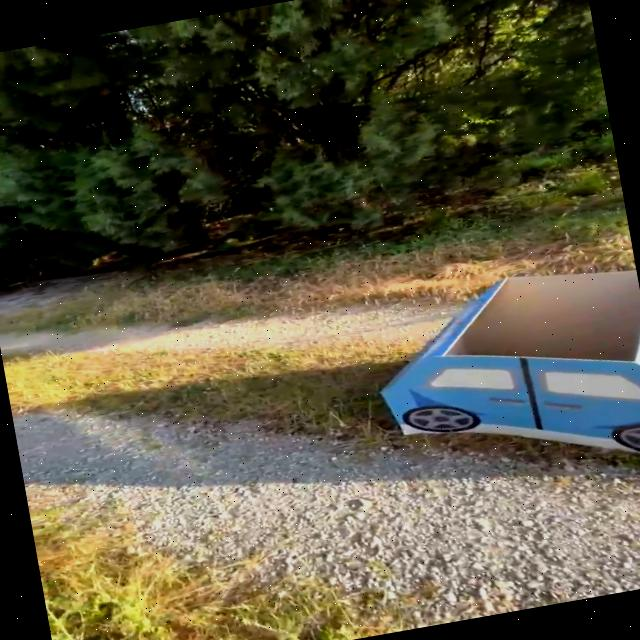blue_car: (324, 234, 640, 521)
